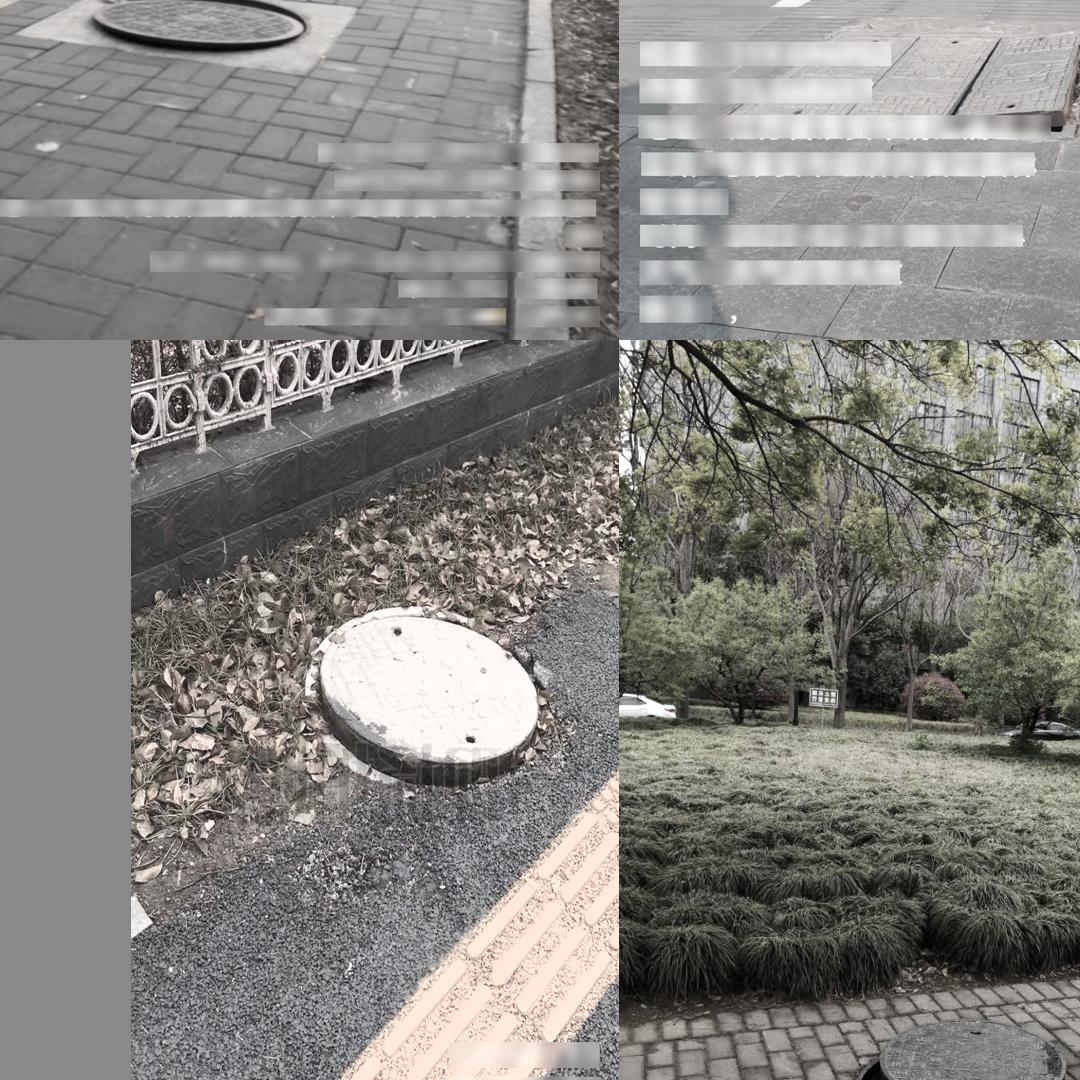uncovered: (304, 602, 547, 780), (720, 23, 1080, 140), (839, 1000, 1080, 1080), (85, 0, 314, 57)
